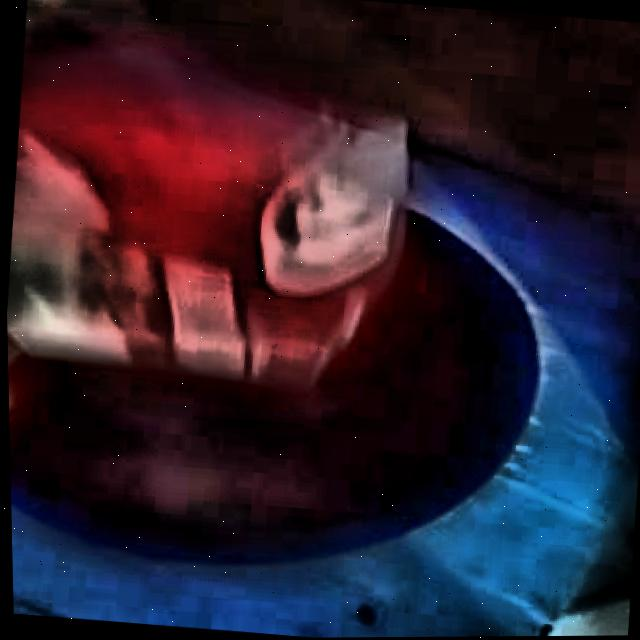metal: (5, 54, 404, 389)
